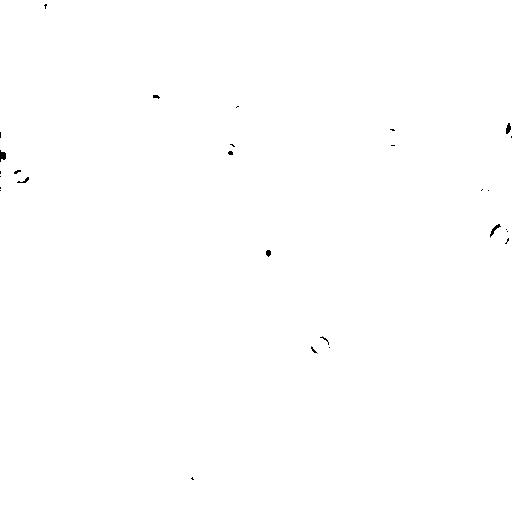micro-algae: (256, 306, 345, 392), (206, 415, 247, 455), (253, 232, 283, 268), (476, 185, 506, 218), (226, 103, 254, 129), (487, 223, 511, 251), (41, 0, 68, 21), (464, 44, 487, 67), (1, 136, 17, 167), (379, 127, 401, 149), (189, 463, 210, 485), (9, 168, 33, 187), (219, 139, 239, 157), (311, 337, 330, 355), (245, 418, 265, 433), (502, 115, 512, 142)
